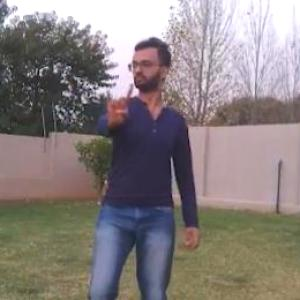takeoff-hand: (98, 79, 140, 128)
